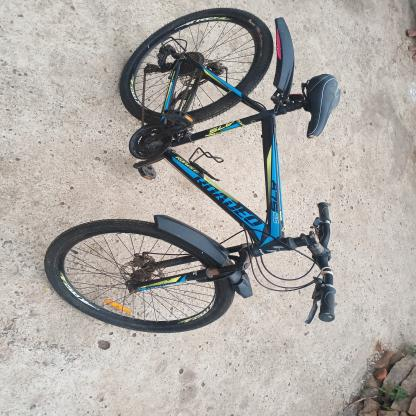bike: (39, 6, 368, 347)
